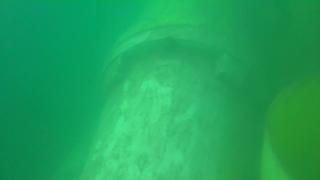pipe: (77, 1, 254, 179), (261, 73, 320, 180), (61, 140, 92, 180)
